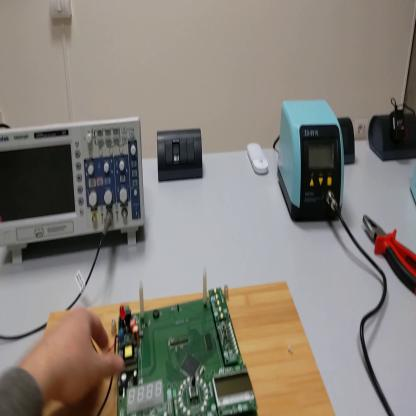hand: (35, 306, 127, 408)
low voltage board: (100, 272, 258, 416)
oscilloscope: (2, 118, 147, 265)
pliers: (365, 213, 415, 294)
socket: (370, 107, 416, 162), (340, 119, 355, 164)
welder base: (410, 167, 416, 211)
welder station: (279, 101, 345, 221)
working area: (48, 281, 334, 413)
